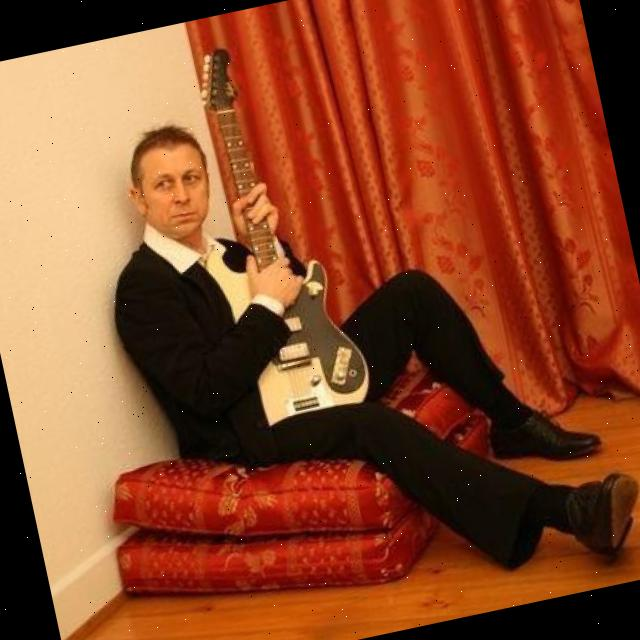guitar: (162, 26, 376, 436)
